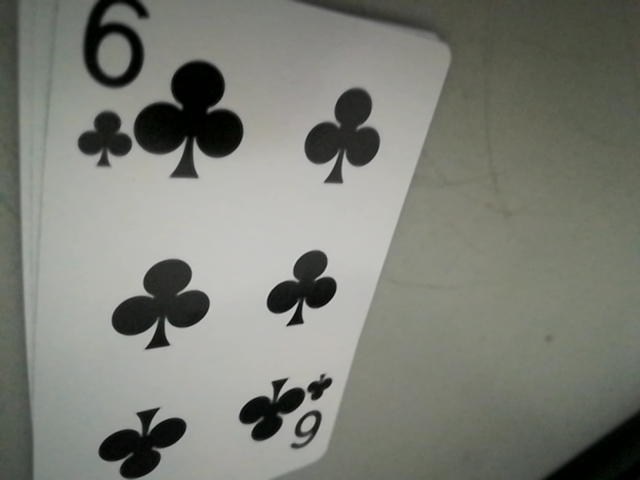mh 6: (69, 1, 142, 174), (291, 370, 338, 454)
